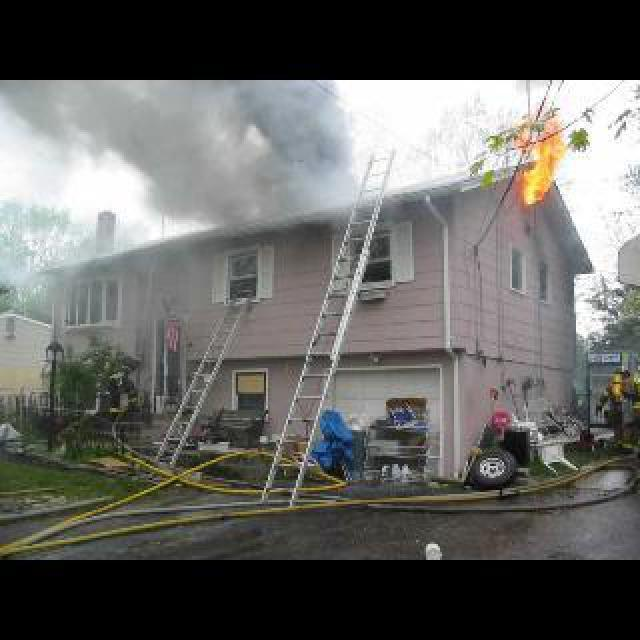Fire: (514, 126, 564, 202)
Smoke: (6, 80, 356, 228)
